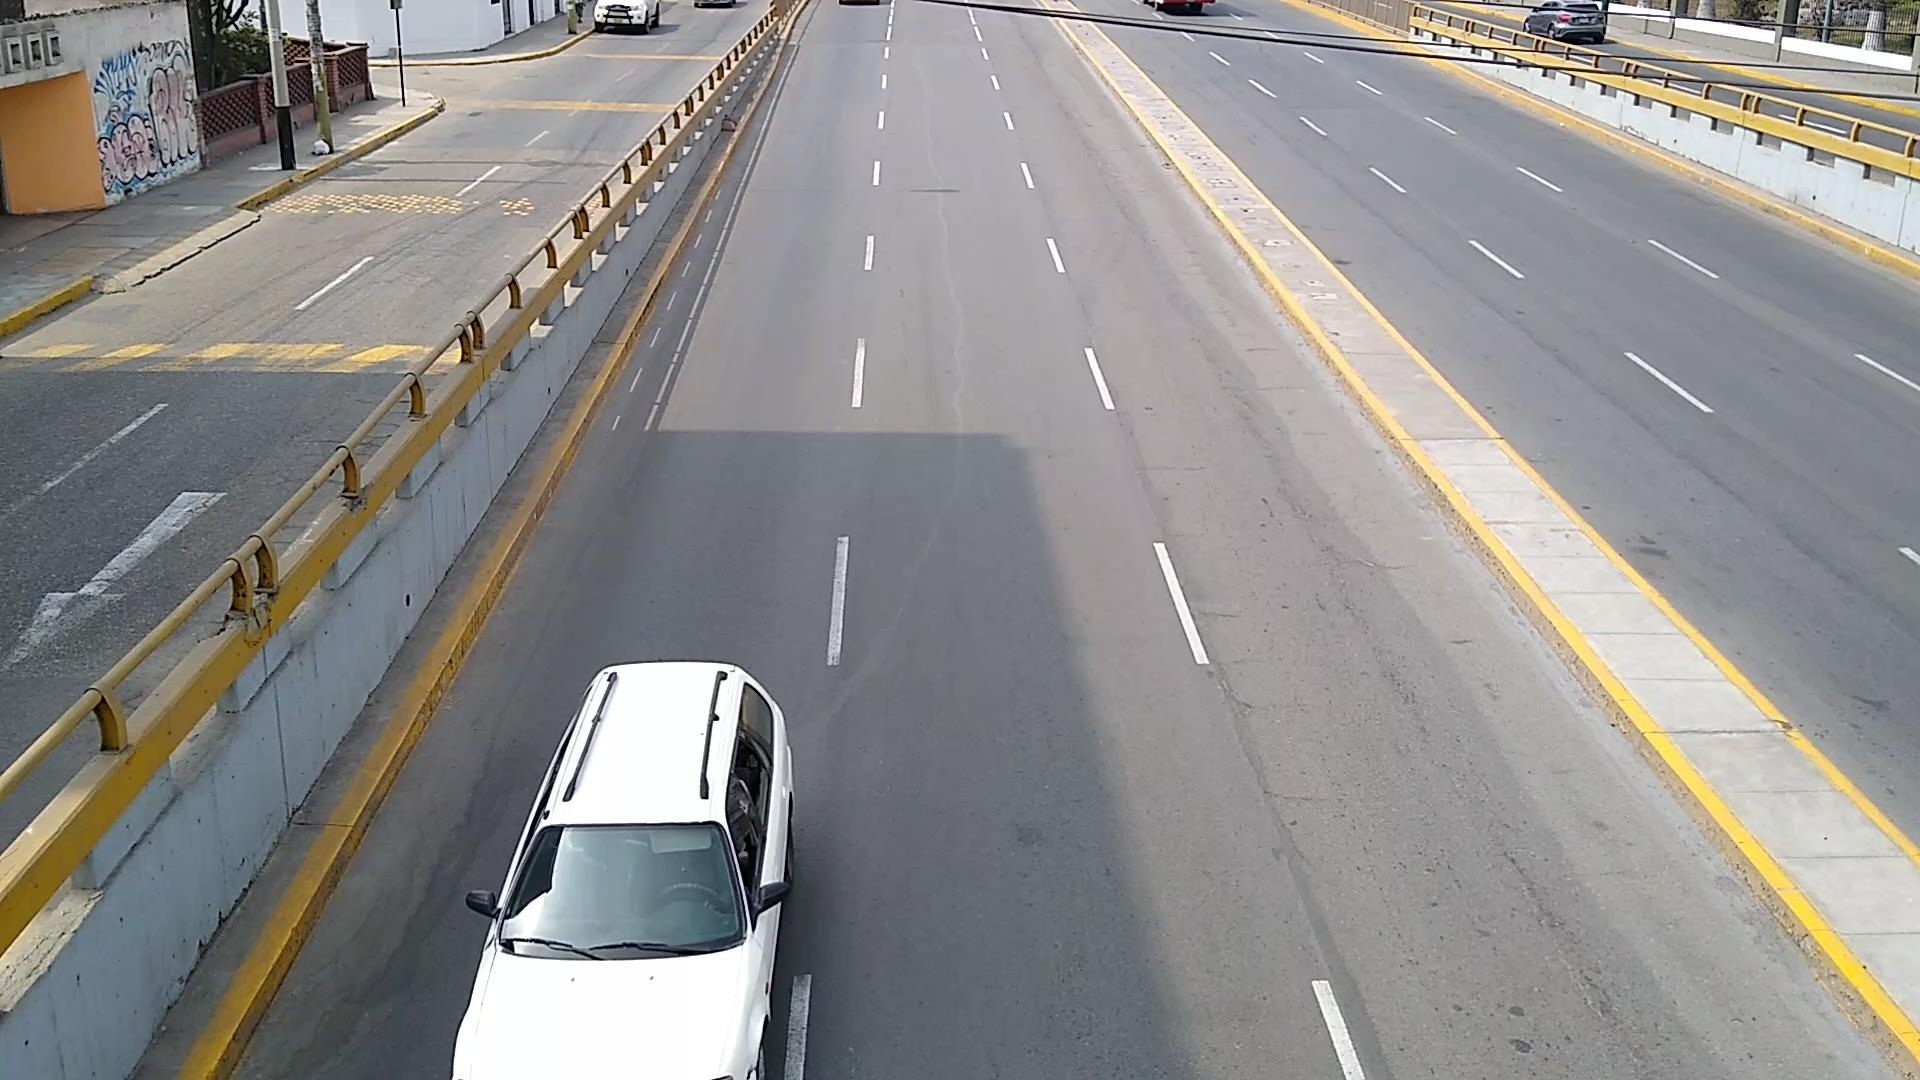car: (454, 660, 795, 1080), (1522, 0, 1605, 41)
